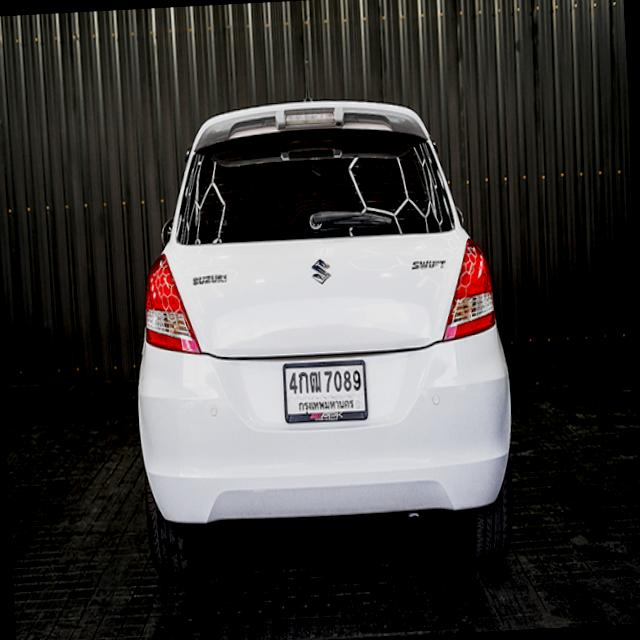license_plate: (280, 358, 372, 429)
